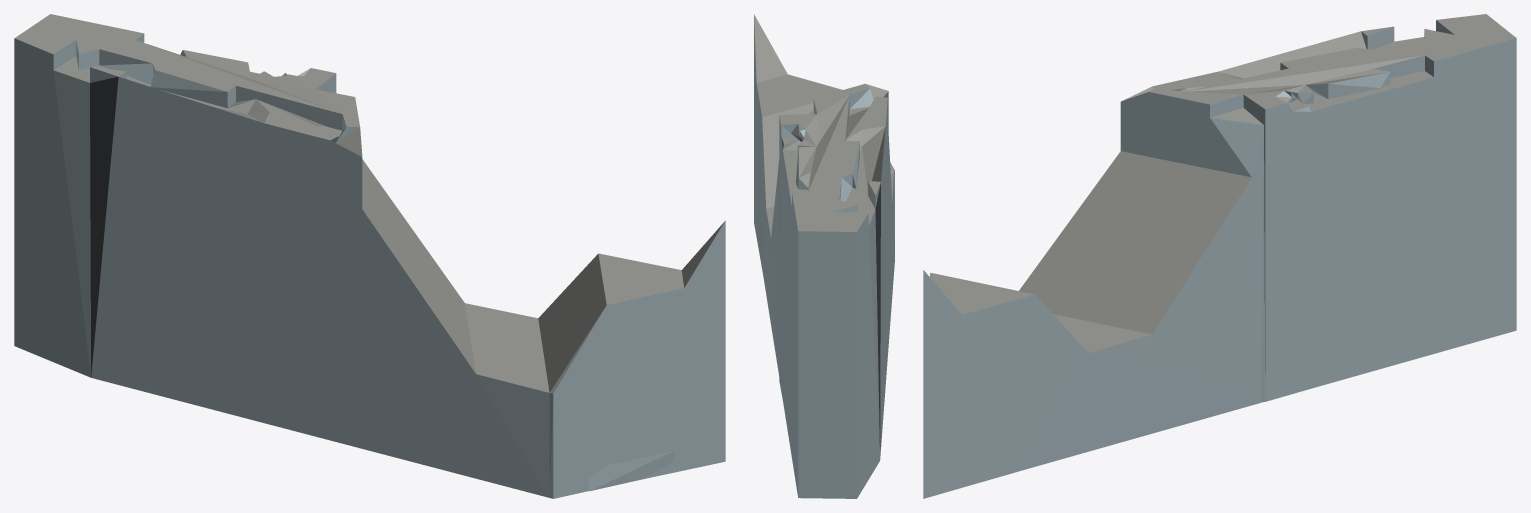
Rendered from room-mate-aitana.lod2.glb.
The picture shows the model from 3 angles, left to right: view 1: azimuth 30°, elevation 25°; view 2: azimuth 150°, elevation 25°; view 3: azimuth 270°, elevation 25°; orthographic projection. The views are drawn at different scales.
Parts seen in each view (by area): view 1: lod2; view 2: lod2; view 3: lod2.
Part boxes in pixels (left/top/right/bottom): lod2: left=14, top=14, right=725, bottom=498; lod2: left=754, top=14, right=894, bottom=498; lod2: left=923, top=14, right=1516, bottom=498.
Bounding box in the file's own units: 61.48 × 43.71 × 80.11.
